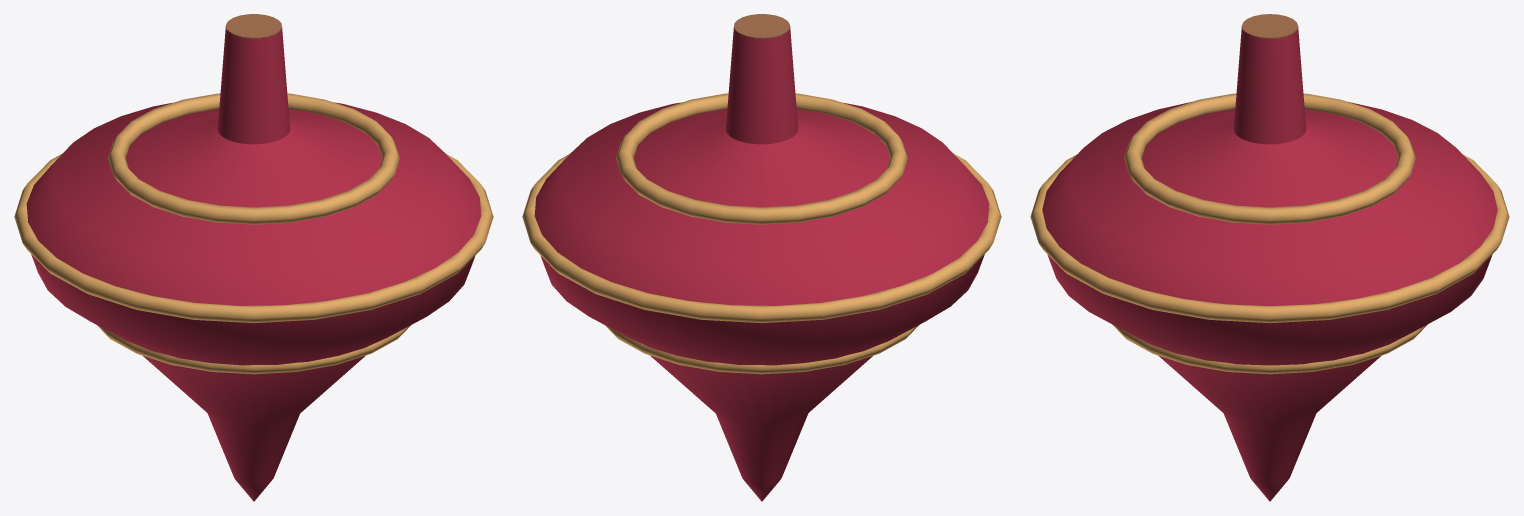
The model's file is storybook-christmas-market-striped-spinning-top-91ab9bf9__19737.glb.
3 views of the same model, side by side, from view 1: azimuth 30°, elevation 25°; view 2: azimuth 150°, elevation 25°; view 3: azimuth 270°, elevation 25° (orthographic).
Parts seen in each view (by area): view 1: striped-spinning-top; view 2: striped-spinning-top; view 3: striped-spinning-top.
Part boxes in pixels (x1,y1,x2,y2): striped-spinning-top: (14,14,493,501); striped-spinning-top: (522,14,1001,501); striped-spinning-top: (1030,14,1509,501).
Size of the model in its own units: 0.594 by 0.6512 by 0.594.
